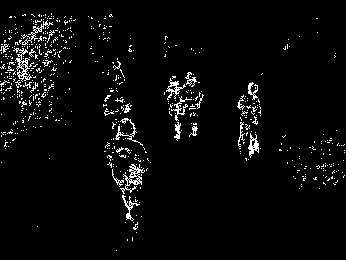person: (109, 119, 151, 238), (235, 80, 268, 164), (184, 70, 210, 150), (165, 74, 184, 143)
